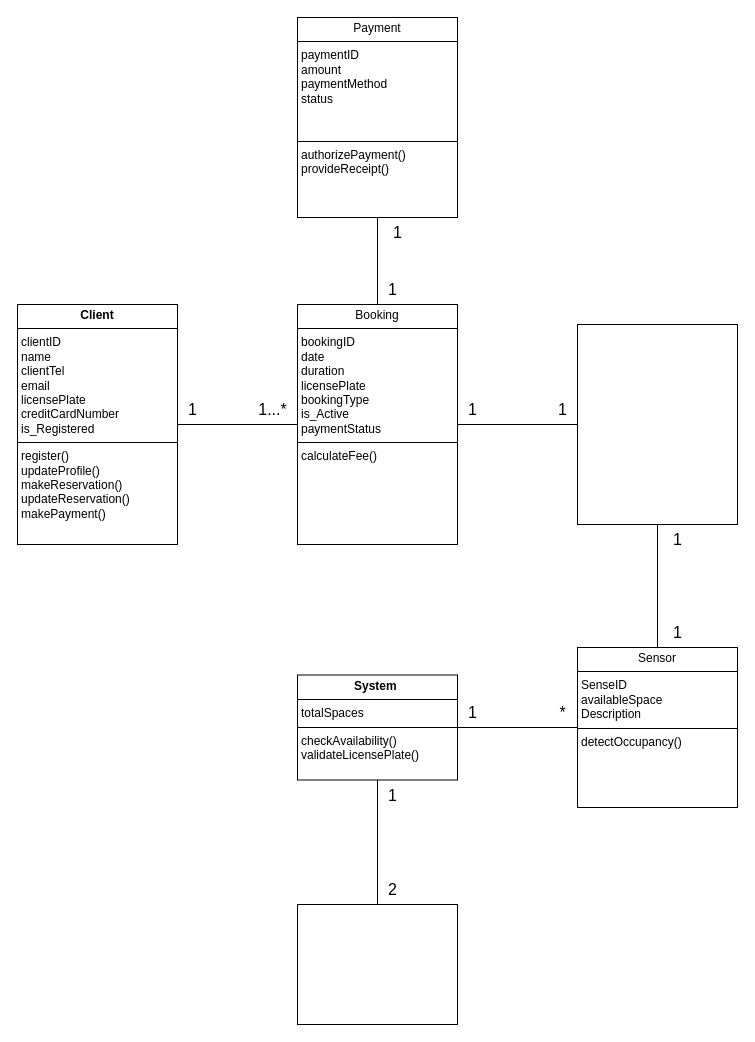
This 755x1042 diagram has some shape labels left out. The shapes that lost their labels are listed below. From the top down, each one's box as (x1, y1, x2, y2) in pixels, then its label:
(576, 324, 738, 524): ParkingSpace parkingID sensorID is_Active updateParkingSpace ()
(296, 904, 458, 1024): LicensePlateReader CameraID recent_scan Description readPlate()
